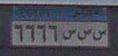6: (37, 22, 47, 44), (48, 23, 58, 44), (14, 22, 24, 43), (25, 23, 35, 43)
seen: (77, 26, 92, 44), (61, 26, 77, 42), (92, 26, 107, 42)
